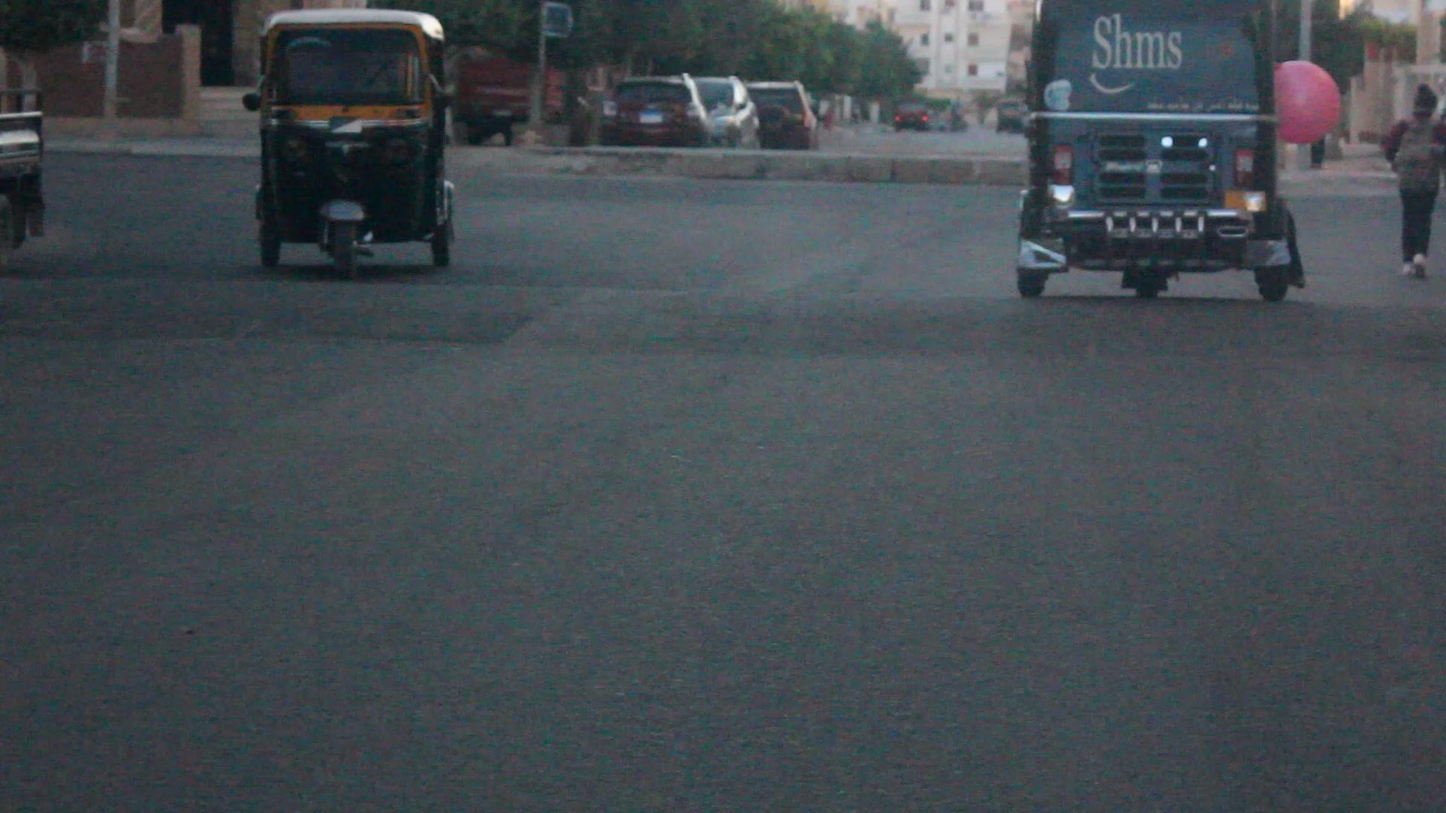Bump: (0, 260, 1446, 373)
